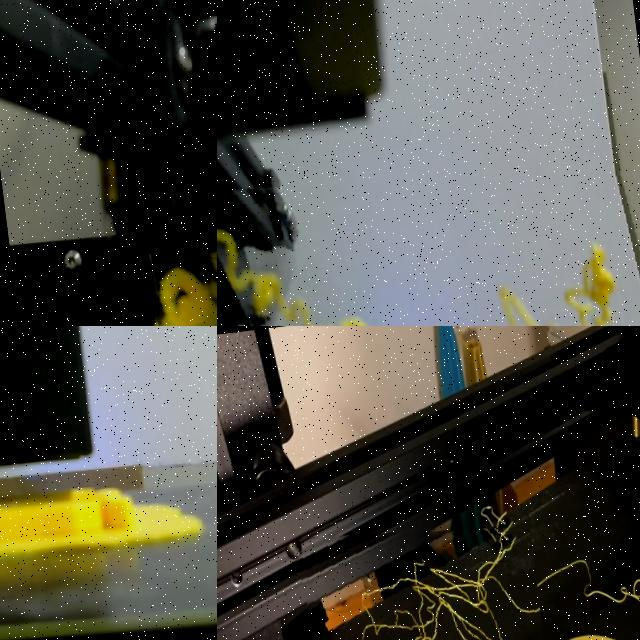spaghetti: (291, 508, 551, 640), (158, 267, 217, 326)
